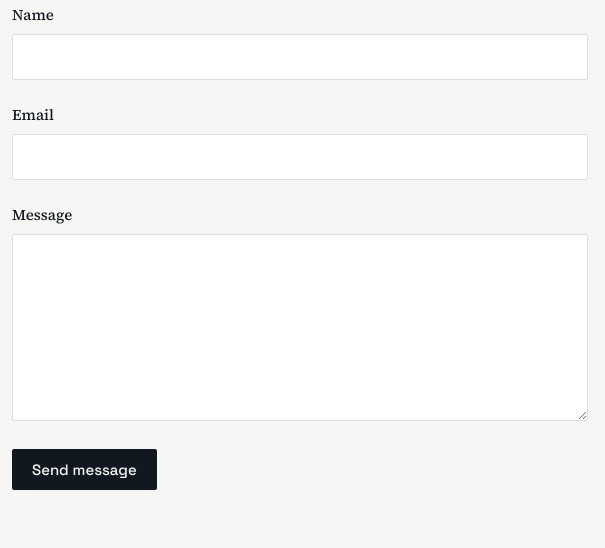
ContactForm › shows a rate-limit message when throttled
The width and height of the screenshot is (605, 548).
Type "Jane Doe" into the field labelled "Name". click: (300, 57)
box: [12, 34, 588, 80]
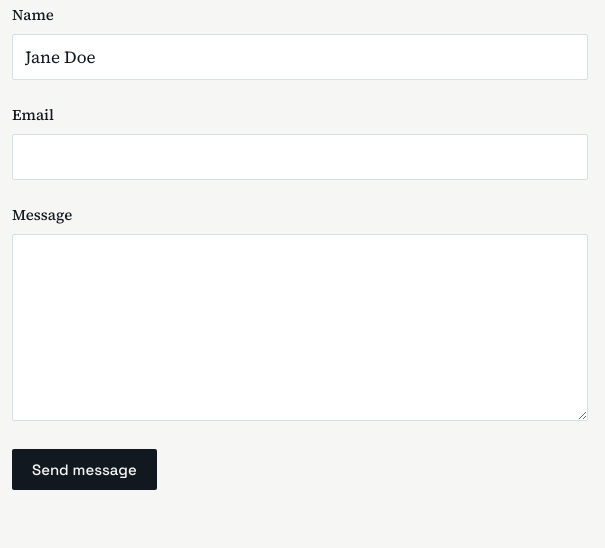
Type "jane@example.com" into the field labelled "Email". click: (300, 157)
box: [12, 134, 588, 180]
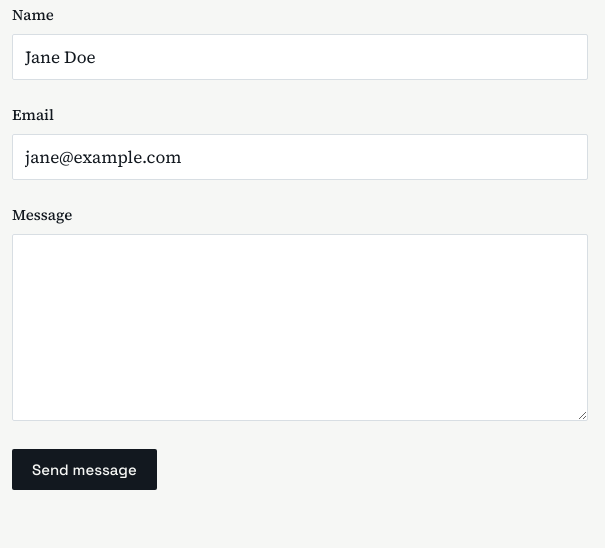
Type "Interested in working together." into the text box labelled "Message". click: (300, 327)
box: [12, 234, 588, 420]
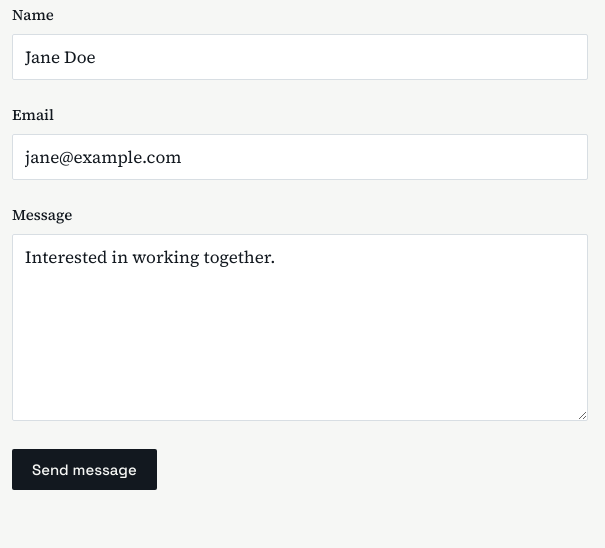
Click the button "Send message". click: (84, 469)
box: [12, 449, 157, 490]
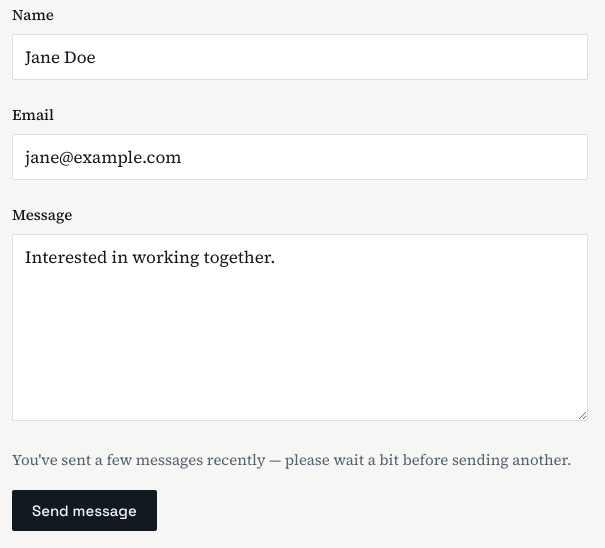
Result: the message shows "sent a few messages recently" at [12, 449, 572, 470]
